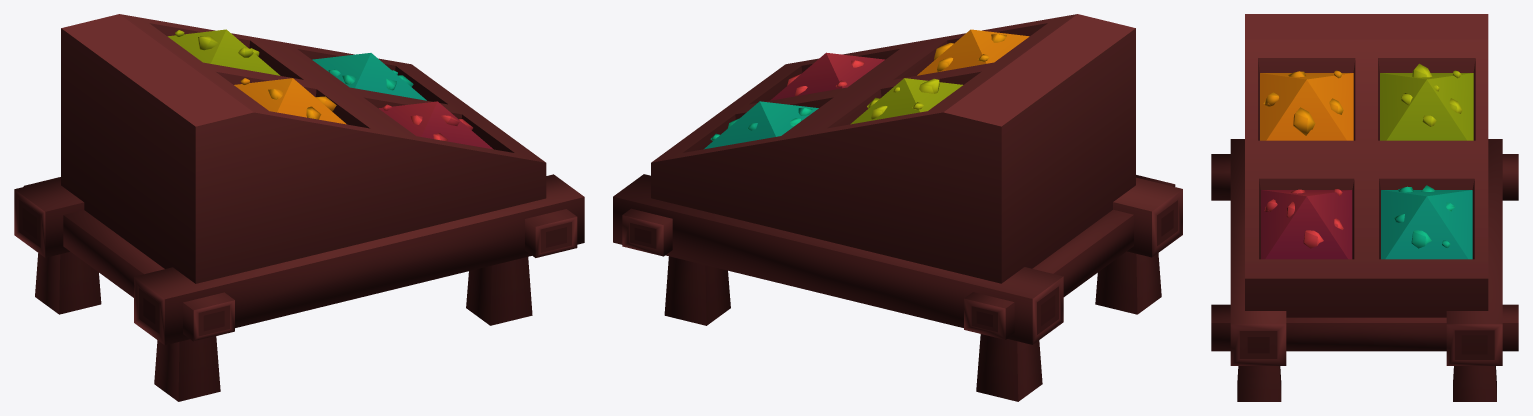
Rendered from SellingShop1.glb.
3 renders of one model, left to right at view 1: azimuth 30°, elevation 25°; view 2: azimuth 150°, elevation 25°; view 3: azimuth 270°, elevation 25°, orthographic. The views are drawn at different scales.
Visible parts, largest first — view 1: stand; view 2: stand; view 3: stand.
Boxes of the visible parts, box(x1,y1,x2,y2) form: stand: box(14, 14, 584, 401); stand: box(613, 14, 1182, 401); stand: box(1211, 14, 1518, 401).
Size of the model in its own units: 1.85 by 1.12 by 1.29.
1 material, 1 textured.
